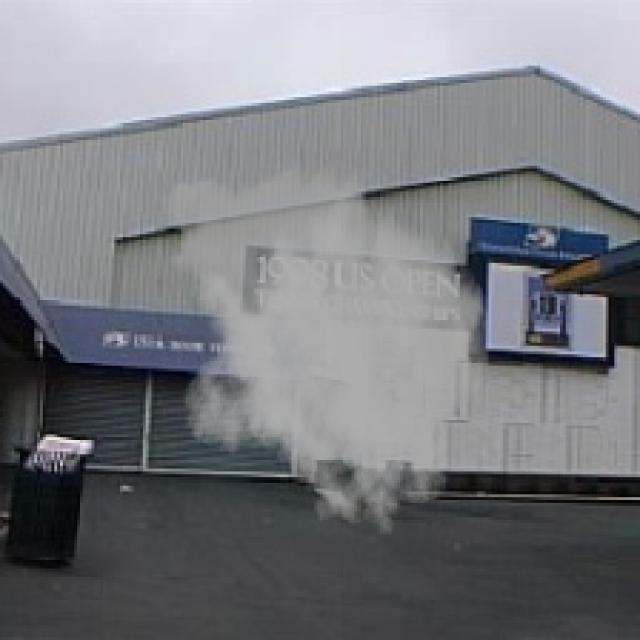smoke: (148, 154, 492, 537)
